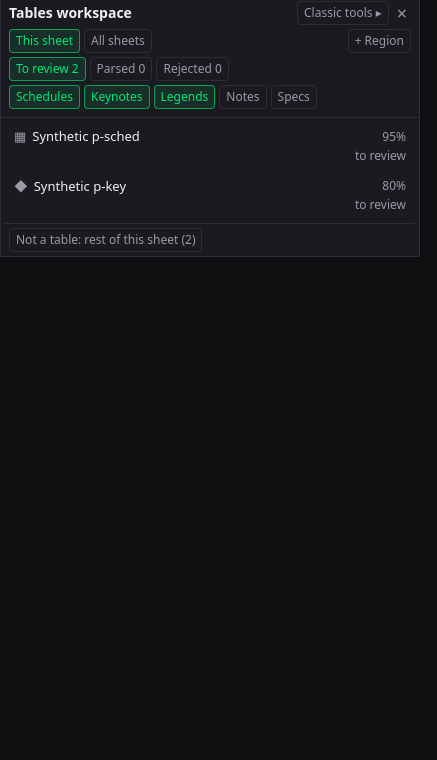
click paths (PLAN §3.3) › B · keynote with shape keys: the unknown key is red; type it, keep This sheet scope, Accept
This screenshot has width=437, height=760.
Later steps or results of the test are not shown.
Click the button "◆ Synthetic p-key 80% to review" at [80, 186], box x1=5 y1=172 x2=415 y2=219
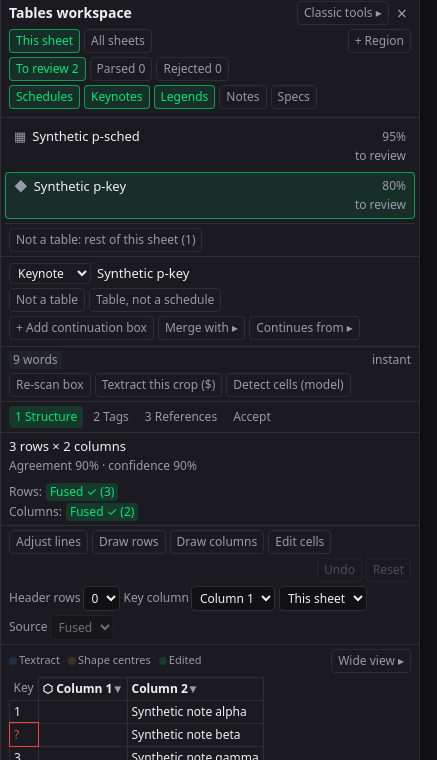
Result: the text "3 rows × 2 columns" is shown at x1=9 y1=437 x2=126 y2=455
Result: the column heading "?" is shown at x1=10 y1=723 x2=38 y2=746
Result: the dropdown named "Tag scope" shows "This sheet" at x1=279 y1=586 x2=367 y2=610
Click the button "Edit cells" at [300, 542], box x1=268 y1=530 x2=331 y2=554
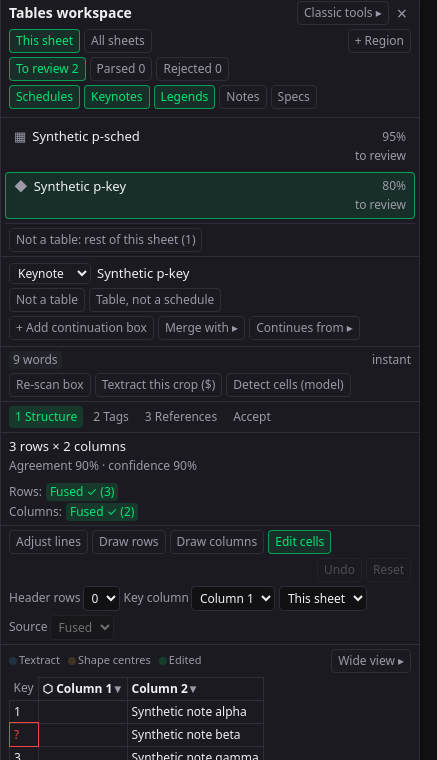
Click the column heading "?" at [24, 734], box x1=10 y1=723 x2=38 y2=746
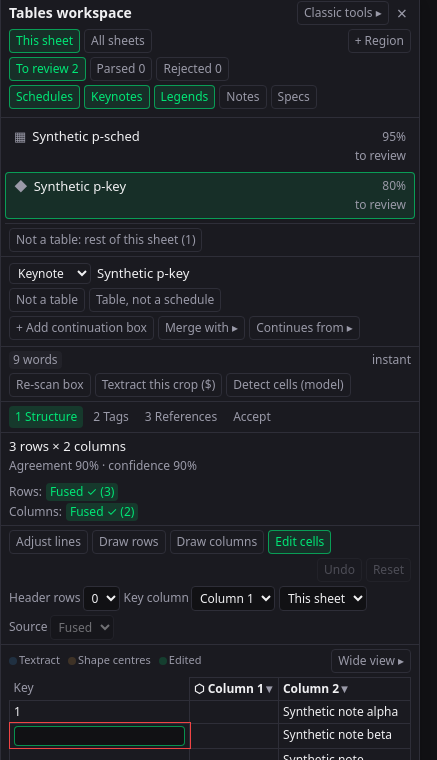
Type "2" into the field named "Key of row r2" at [100, 736], box x1=14 y1=726 x2=185 y2=746
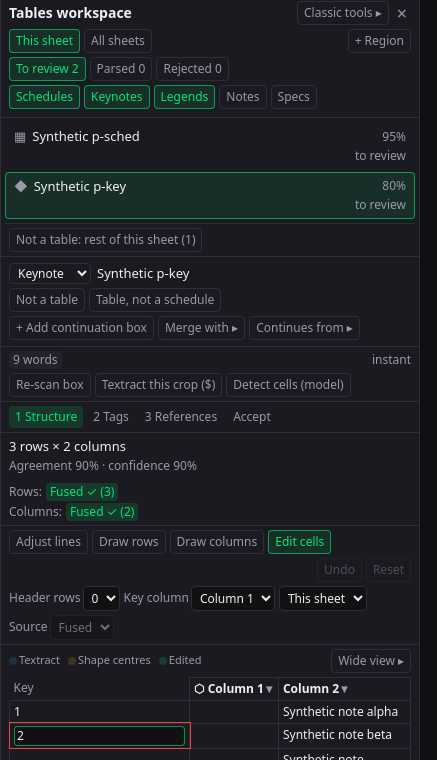
Press Enter in the field named "Key of row r2", box x1=14 y1=726 x2=185 y2=746
(page scrolled)
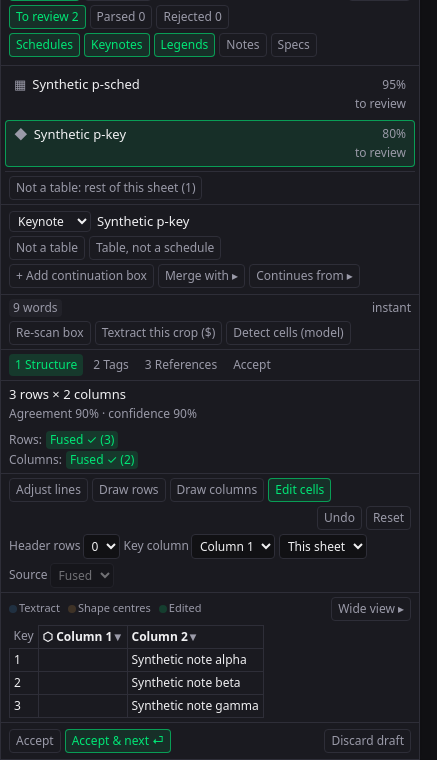
Result: the column heading "2" is shown at x1=10 y1=671 x2=38 y2=694
